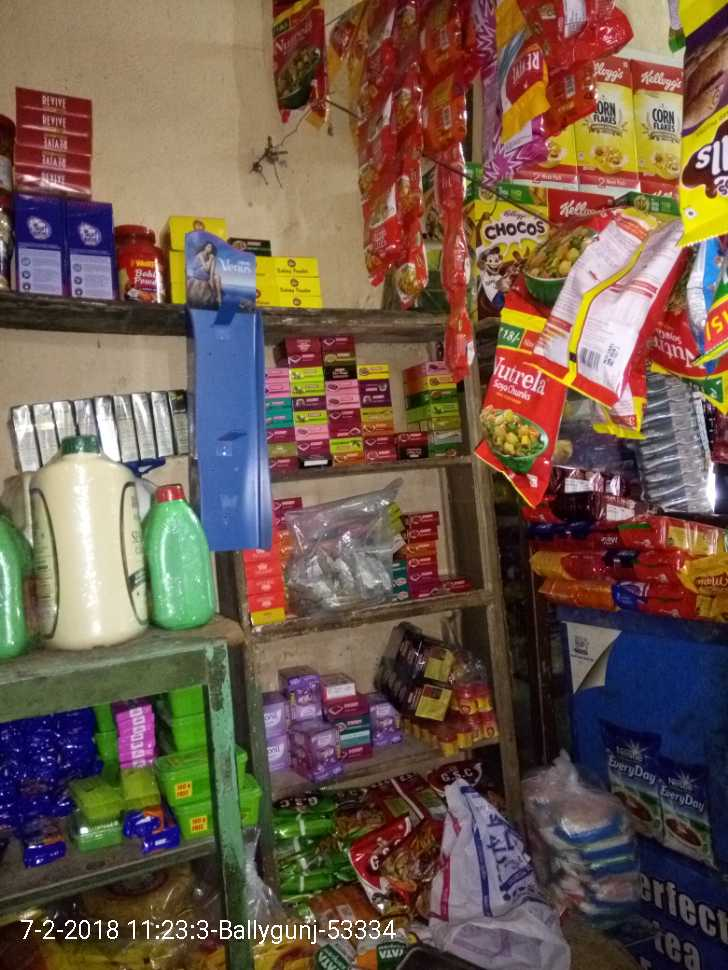reject: (270, 276, 395, 454)
